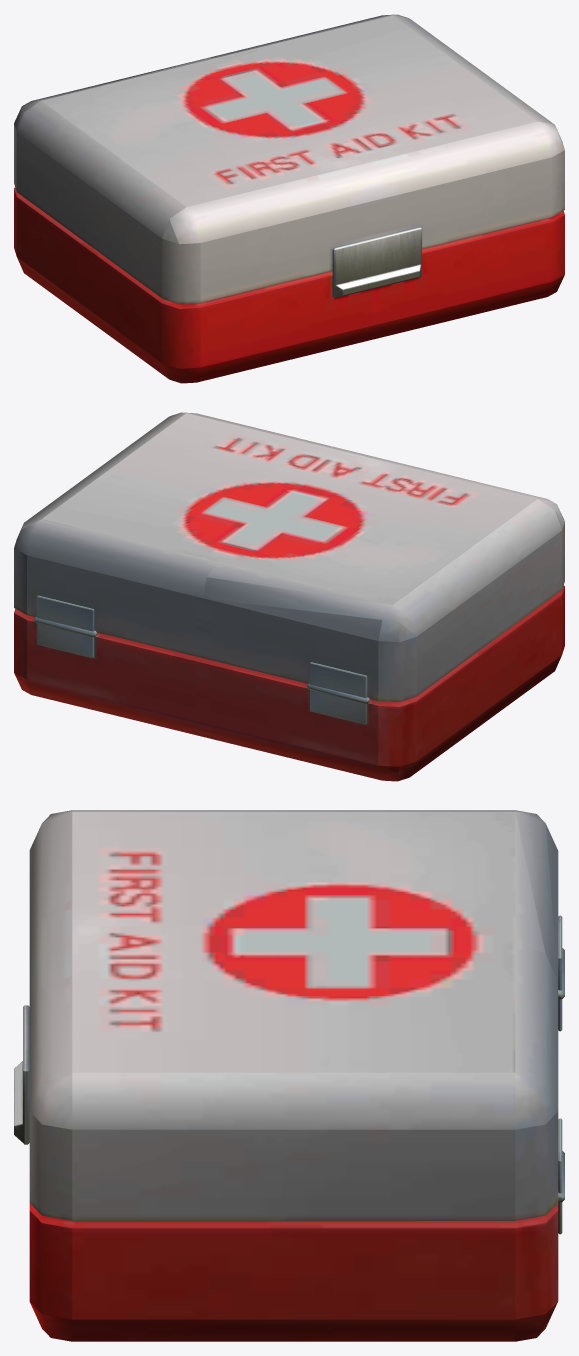
Rendered from FirstAid_Kit.fbx.
The picture shows the model from 3 angles, top to bottom: view 1: azimuth 30°, elevation 25°; view 2: azimuth 150°, elevation 25°; view 3: azimuth 270°, elevation 25°; orthographic projection. The views are drawn at different scales.
Visible parts, largest first — view 1: Object001; view 2: Object001; view 3: Object001.
Part boxes in pixels (box(x1,y1,x2,y2)): Object001: box(14, 14, 564, 383); Object001: box(14, 412, 564, 781); Object001: box(14, 810, 564, 1341).
Size of the model in its own units: 19.19 by 8.05 by 15.02.
Materials: 1 (1 with a texture image).
